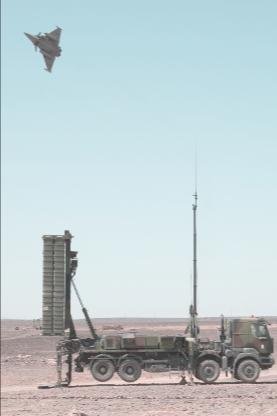RQ4: (22, 25, 62, 73)
